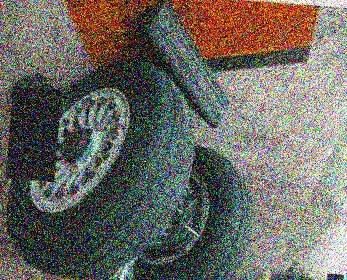chock: (123, 0, 239, 131), (6, 71, 86, 138)
wheel: (0, 53, 192, 280), (124, 140, 257, 280)
